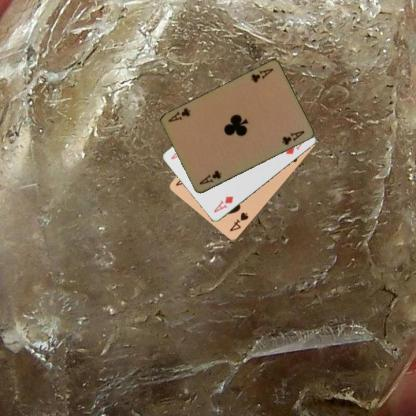4s: (227, 210, 250, 233)
Ac: (197, 168, 223, 186), (249, 66, 274, 84)
Ad: (211, 193, 234, 214)
